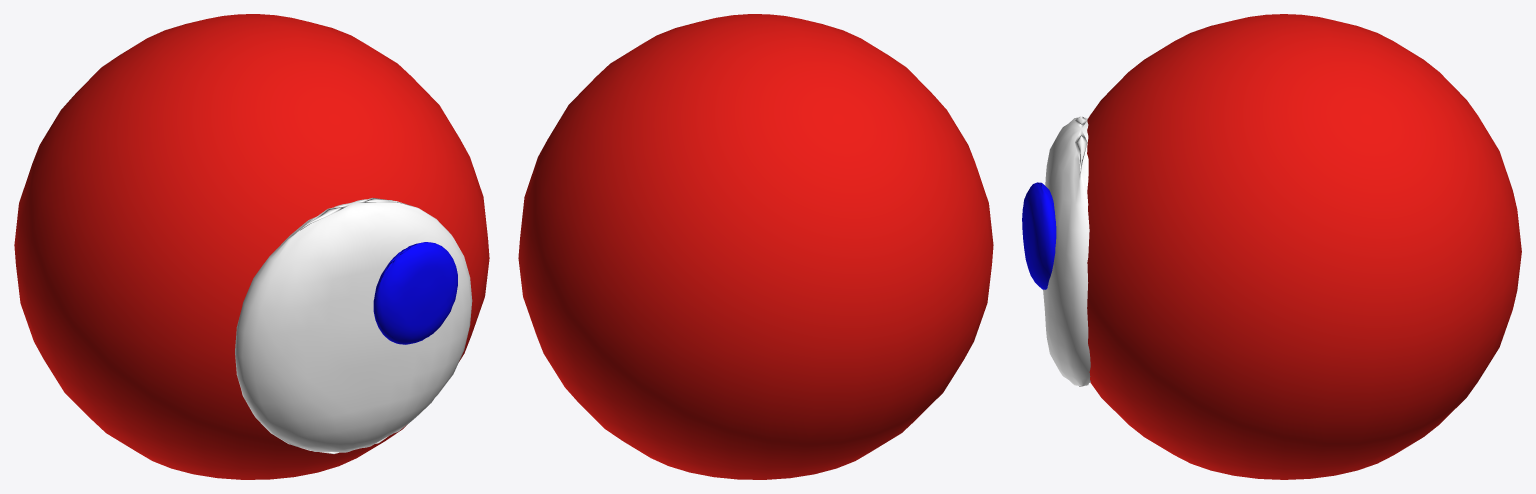
The model's file is komyaku_ver1.glb.
3 renders of one model, left to right at view 1: azimuth 30°, elevation 25°; view 2: azimuth 150°, elevation 25°; view 3: azimuth 270°, elevation 25°, orthographic.
Visible parts, largest first — view 1: 球; view 2: 球; view 3: 球.
Boxes of the visible parts, x1,y1,x2,y2 form: 球: (14,14,489,479); 球: (518,14,993,479); 球: (1022,14,1521,479).
Size of the model in its own units: 3.51 by 3.36 by 3.68.
